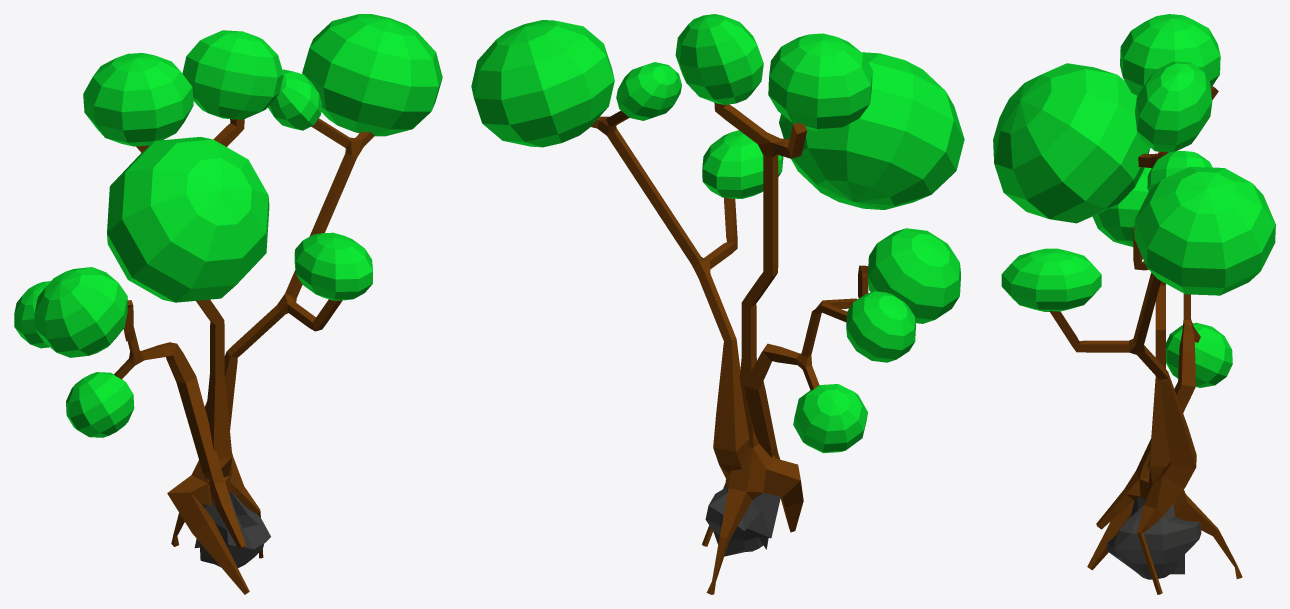
File: willow.fbx
3 renders of one model, left to right at view 1: azimuth 30°, elevation 25°; view 2: azimuth 150°, elevation 25°; view 3: azimuth 270°, elevation 25°, orthographic. The views are drawn at different scales.
Visible parts, largest first — view 1: Rock; view 2: Rock; view 3: Rock.
Boxes of the visible parts, box(x1,y1,x2,y2) form: Rock: box(14, 14, 442, 594); Rock: box(471, 14, 964, 594); Rock: box(993, 14, 1275, 594).
Size of the model in its own units: 947 by 1129 by 552.
